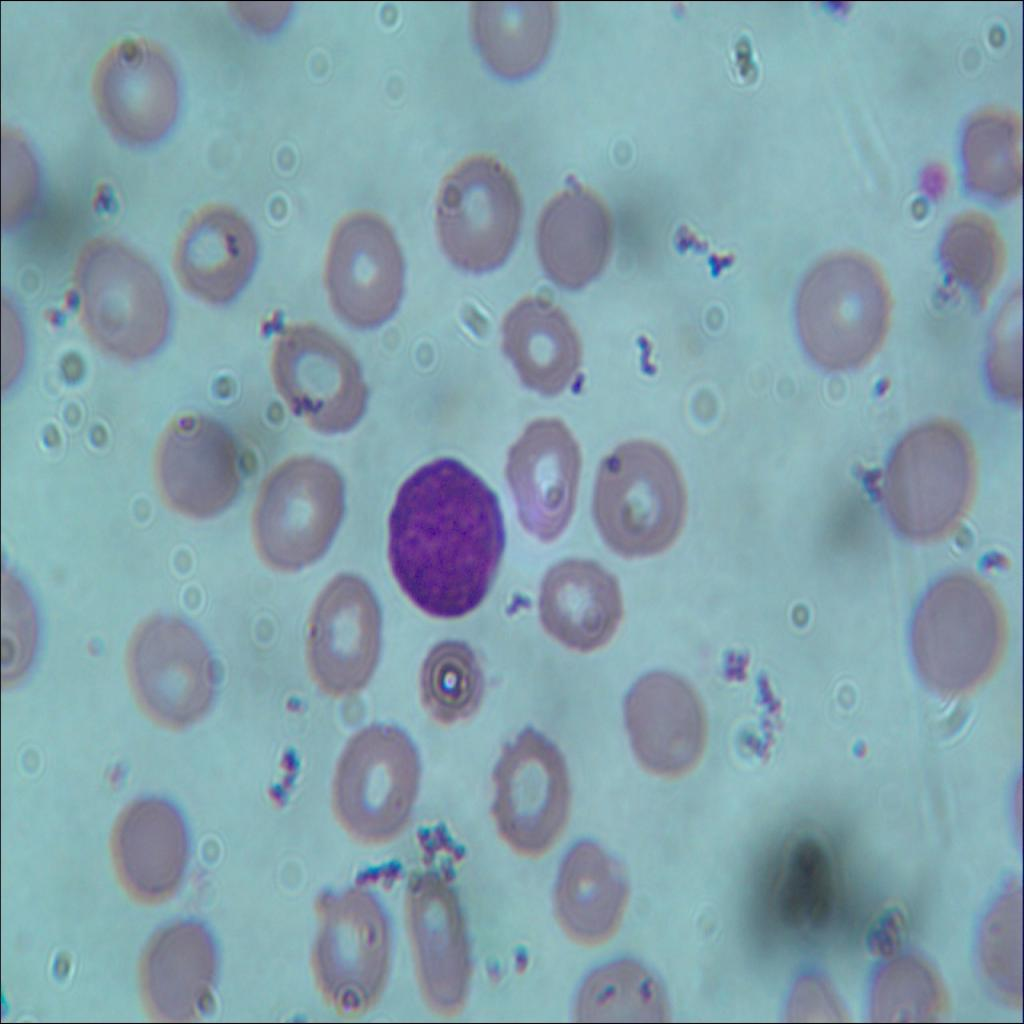Eritrosit: (69, 227, 175, 370), (90, 20, 192, 158), (906, 545, 998, 696), (143, 398, 248, 528), (272, 314, 378, 442), (484, 280, 590, 408), (875, 418, 984, 542), (782, 242, 886, 367), (166, 192, 270, 314), (395, 867, 476, 1018), (102, 779, 192, 912), (428, 151, 523, 274), (124, 903, 223, 1021), (122, 612, 219, 732), (486, 719, 574, 851), (598, 424, 684, 559), (324, 210, 414, 338), (243, 458, 356, 554), (502, 412, 582, 545), (318, 878, 396, 1011), (330, 719, 420, 834), (313, 577, 386, 714), (942, 89, 1023, 210), (618, 663, 698, 784), (535, 180, 615, 291), (549, 835, 631, 942), (461, 0, 555, 82), (548, 552, 622, 648), (415, 634, 488, 730), (866, 947, 956, 1023), (938, 205, 998, 317), (574, 957, 666, 1023), (976, 290, 1023, 385)
Limfoblast: (378, 450, 506, 621)
Platelet: (552, 364, 598, 405), (915, 145, 946, 204), (844, 734, 873, 781), (596, 442, 628, 474), (46, 285, 66, 332), (508, 944, 534, 980), (478, 950, 504, 982), (63, 282, 86, 310), (870, 370, 888, 402)
